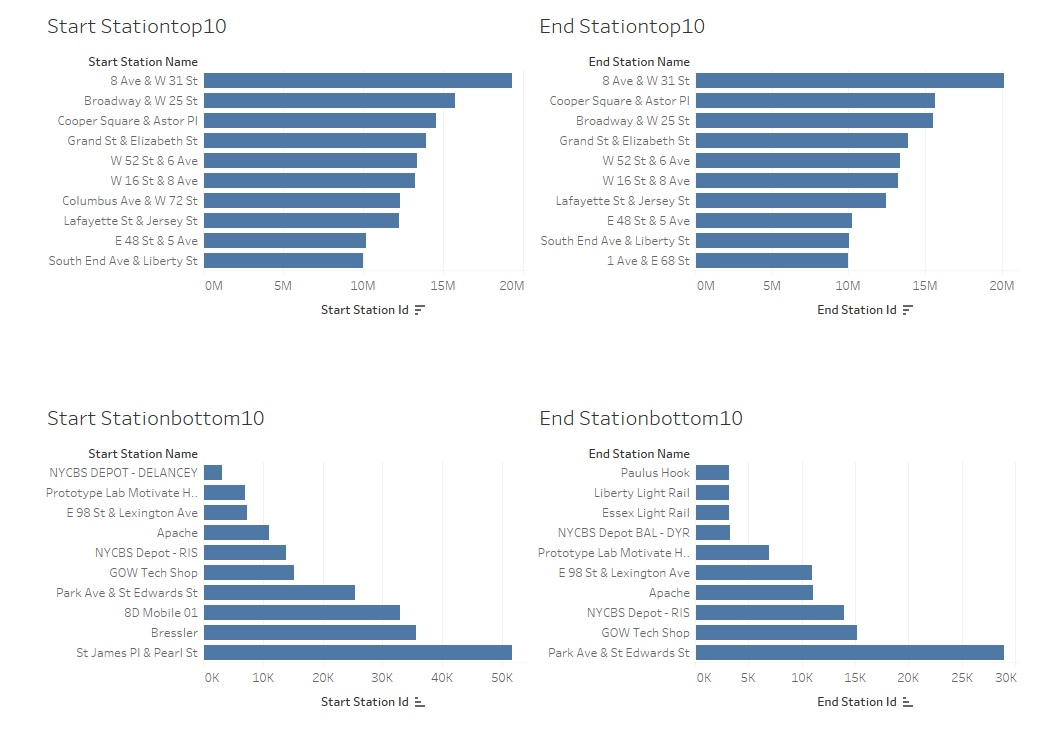

The dashboard page shown, as its layout file describes it:
{"tool":"tableau","page":{"name":"Popular_Stations","canvas":[1000,800],"ordinal":0},"visuals":[{"type":"worksheet","title":"Start Stationtop10","mark":"Automatic","rows":["start station name"],"cols":["start station id"],"box":[8,8,492,392]},{"type":"worksheet","title":"End Stationtop10","mark":"Automatic","rows":["end station name"],"cols":["end station id"],"box":[500,8,492,392]},{"type":"worksheet","title":"Start Stationbottom10","mark":"Automatic","rows":["start station name"],"cols":["start station id"],"box":[8,400,492,392]},{"type":"worksheet","title":"End Stationbottom10","mark":"Automatic","rows":["end station name"],"cols":["end station id"],"box":[500,400,492,392]}]}

Visuals, with their boxes on the page's 1000x800 design canvas (x1, y1, x2, y2). These are canvas units, not pixel positions in the 1047x731 screenshot, which may show the page scaled, cropped or inside an application window:
"Start Stationtop10" worksheet: box(8, 8, 500, 400)
"End Stationtop10" worksheet: box(500, 8, 992, 400)
"Start Stationbottom10" worksheet: box(8, 400, 500, 792)
"End Stationbottom10" worksheet: box(500, 400, 992, 792)
